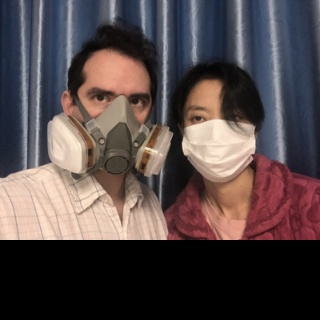with_mask: (73, 84, 152, 179), (181, 103, 256, 183)
